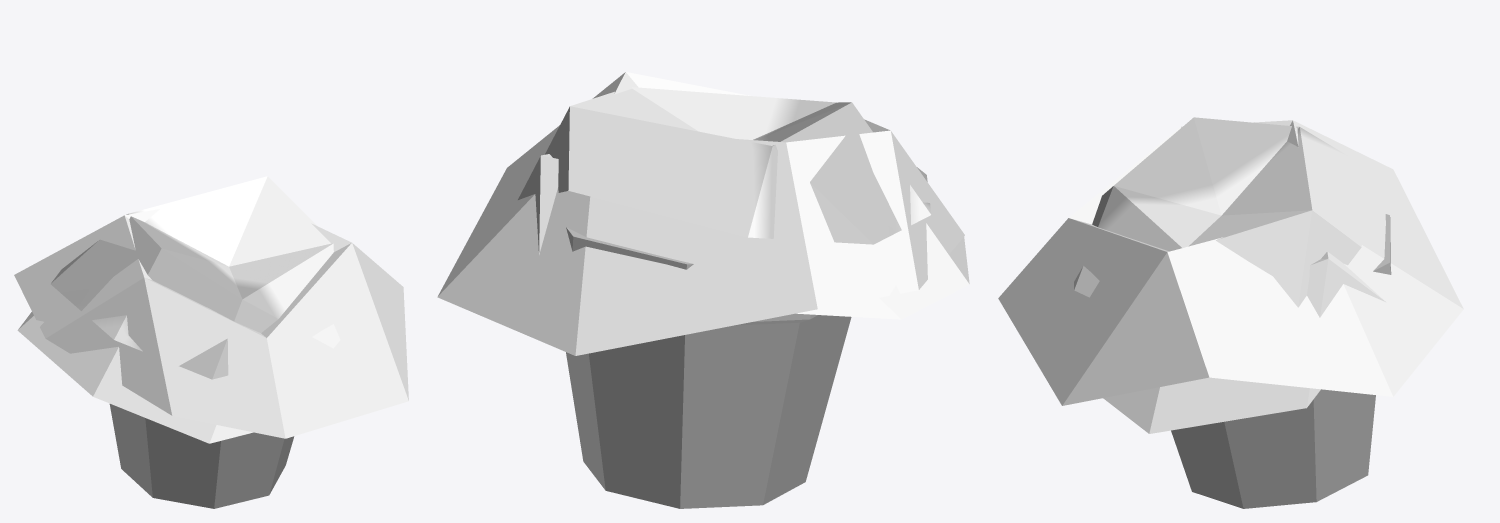
The model's file is ancient_SM_Prop_FlowerPot_Hanging_04.gltf.
3 views of the same model, side by side, from view 1: azimuth 30°, elevation 25°; view 2: azimuth 150°, elevation 25°; view 3: azimuth 270°, elevation 25° (orthographic). The views are drawn at different scales.
Visible parts, largest first — view 1: SM_Prop_FlowerPot_Hanging_04; view 2: SM_Prop_FlowerPot_Hanging_04; view 3: SM_Prop_FlowerPot_Hanging_04.
Boxes of the visible parts, <box> form: SM_Prop_FlowerPot_Hanging_04: <box>14,176,408,508</box>; SM_Prop_FlowerPot_Hanging_04: <box>437,72,969,508</box>; SM_Prop_FlowerPot_Hanging_04: <box>998,117,1463,508</box>.
Size of the model in its own units: 0.705 by 0.7967 by 0.7616.
Materials: 2 (2 with a texture image).
